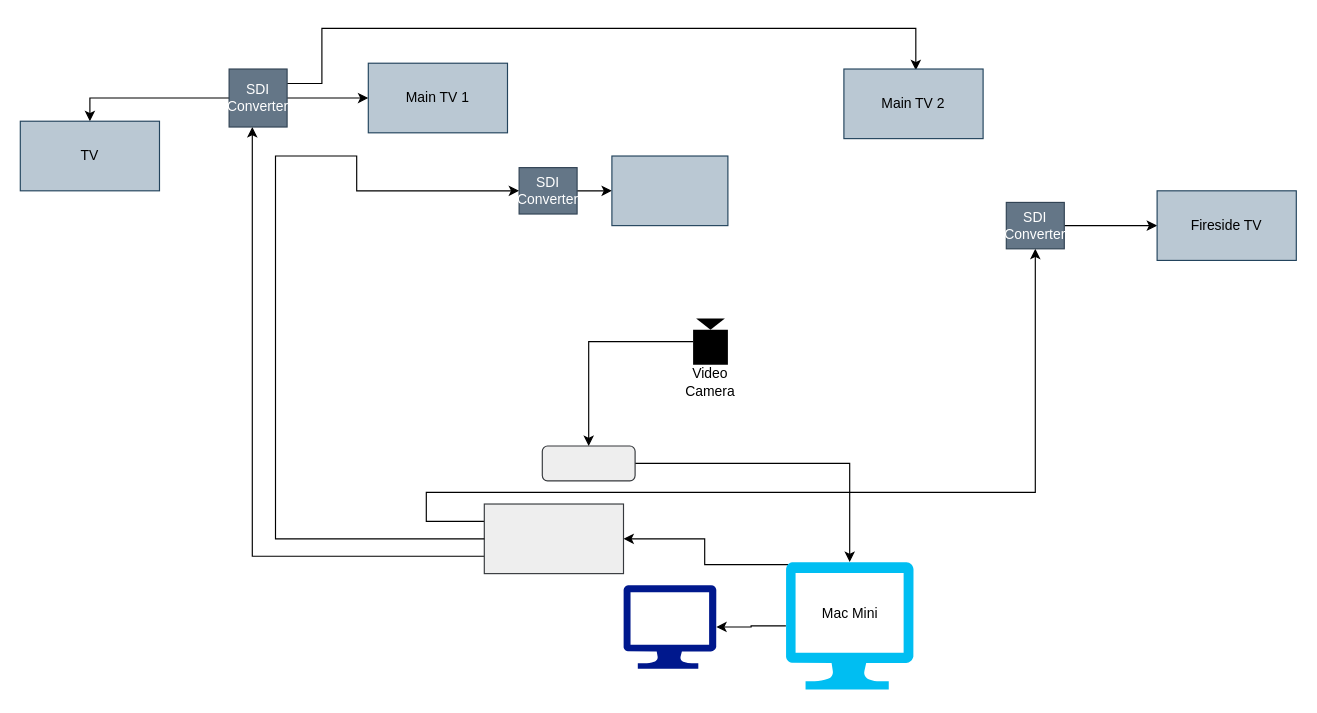
The diagram is 1317 pixels wide and 713 high, and some of its shapes have lost their labels. The shapes that lost their labels are listed below. From the top down, each one's centre as x and y in pixels, then its label:
At [669,190]: "Stage Monitor".
At [588,463]: "ATEM".
At [553,538]: "DeckLink Duo".
At [669,626]: "Monitor".
